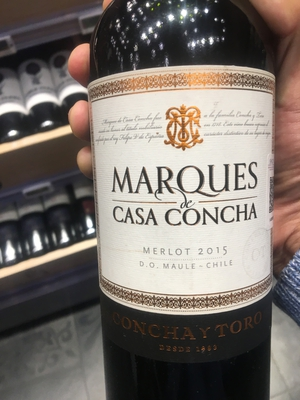marques de casa concha merlot: (82, 10, 276, 400)
